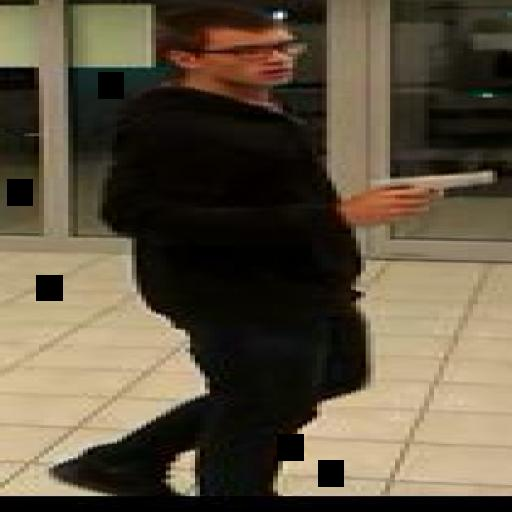Handgun: (356, 165, 498, 222)
